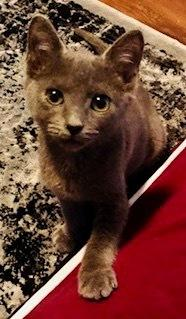rblue: (14, 1, 150, 169)
